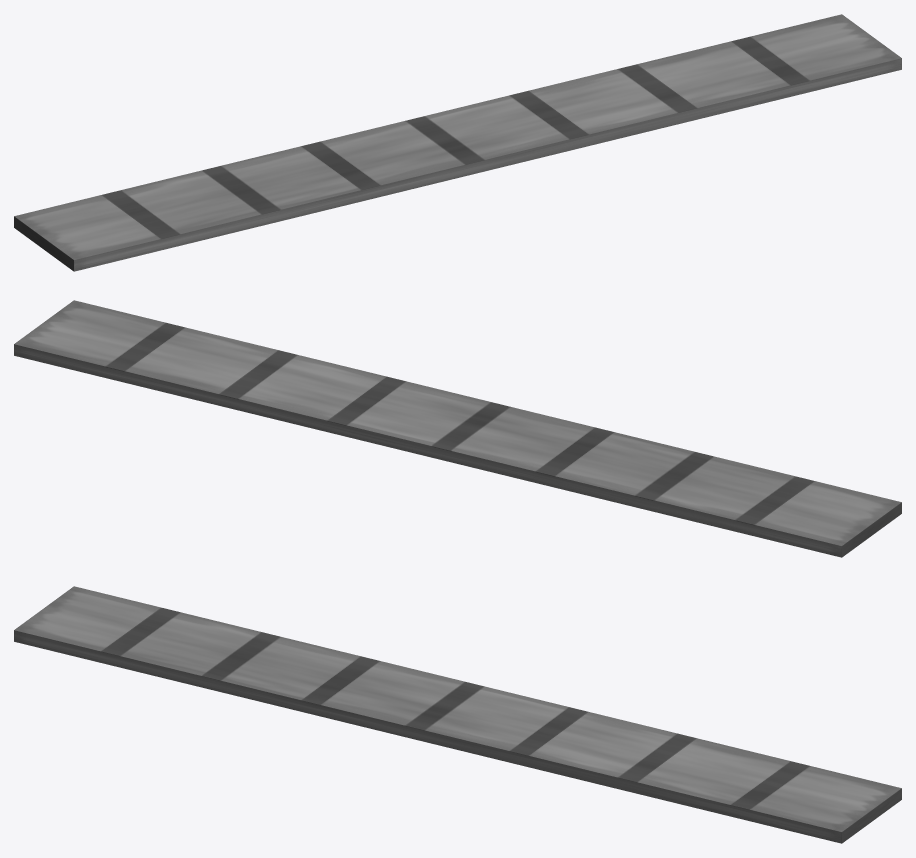
File: Ramp.fbx
3 views of the same model, one above another, from view 1: azimuth 30°, elevation 25°; view 2: azimuth 150°, elevation 25°; view 3: azimuth 330°, elevation 25° (orthographic).
Visible parts, largest first — view 1: RampRotationCorrection; view 2: RampRotationCorrection; view 3: RampRotationCorrection.
Boxes of the visible parts, left/top/right/bottom form: RampRotationCorrection: left=14, top=14, right=901, bottom=271; RampRotationCorrection: left=14, top=300, right=901, bottom=557; RampRotationCorrection: left=14, top=586, right=901, bottom=843.
Size of the model in its own units: 1696 by 22.53 by 213.
